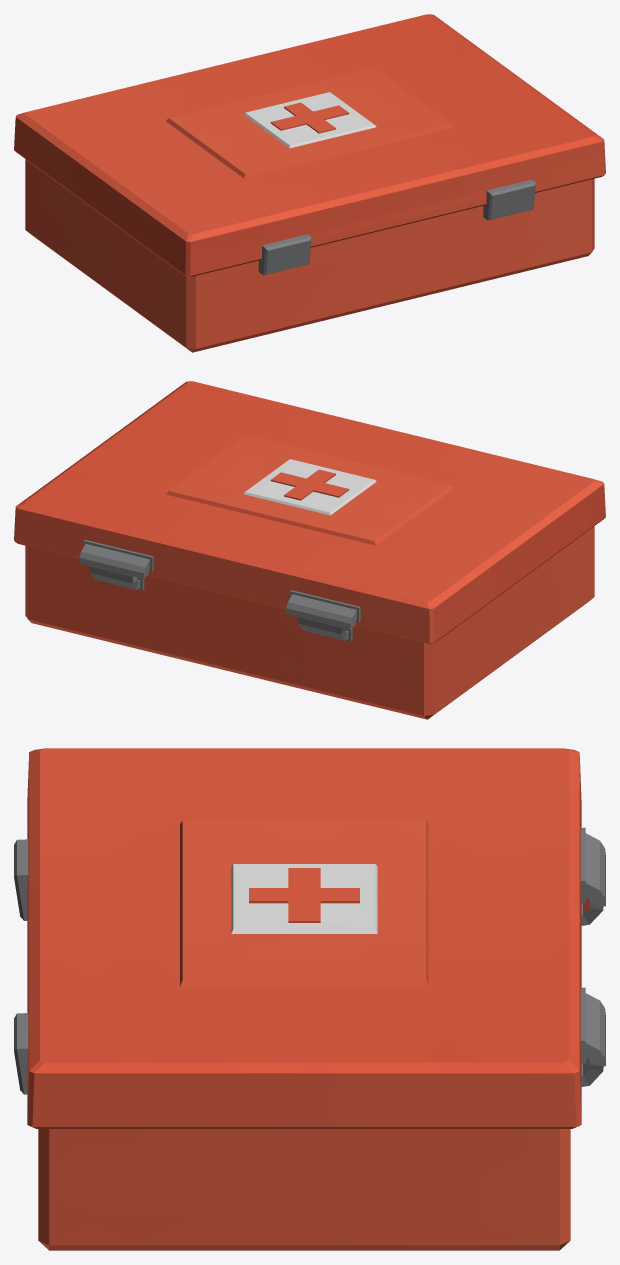
The model's file is medkit_1.glb.
3 views of the same model, one above another, from view 1: azimuth 30°, elevation 25°; view 2: azimuth 150°, elevation 25°; view 3: azimuth 270°, elevation 25° (orthographic). The views are drawn at different scales.
Parts seen in each view (by area): view 1: medkit_1; view 2: medkit_1; view 3: medkit_1.
Boxes of the visible parts, x1=… form: medkit_1: x1=14, y1=14, x2=605, y2=352; medkit_1: x1=14, y1=381, x2=605, y2=719; medkit_1: x1=14, y1=748, x2=605, y2=1250.
Size of the model in its own units: 0.4011 by 0.1168 by 0.3088.
1 material, 1 textured.
